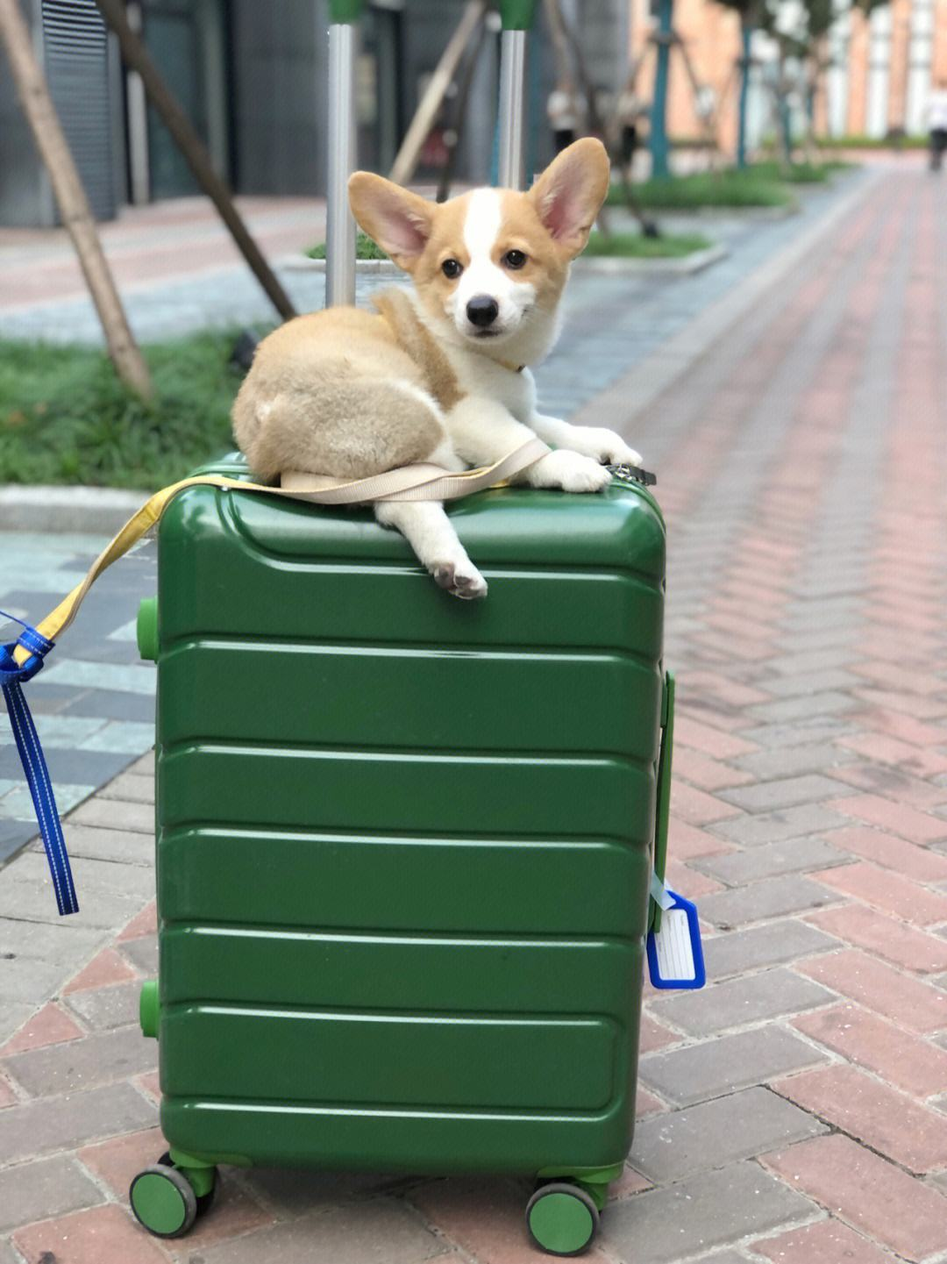box: (155, 453, 666, 1177)
handle: (646, 669, 674, 934)
wheel: (128, 1150, 222, 1239), (524, 1174, 601, 1258)
